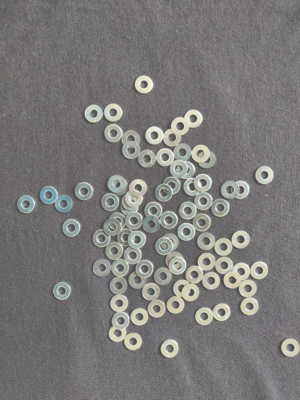circle: (192, 144, 211, 164), (214, 238, 234, 257), (173, 143, 192, 163), (124, 190, 145, 208), (53, 282, 72, 301), (62, 219, 81, 238), (75, 182, 94, 201), (135, 75, 154, 94), (184, 110, 203, 129), (202, 272, 221, 291), (122, 130, 141, 149), (154, 267, 173, 286), (197, 232, 216, 251), (193, 213, 212, 232), (92, 229, 111, 248), (101, 193, 120, 212), (160, 211, 179, 230), (170, 160, 189, 179), (129, 179, 148, 198), (145, 127, 165, 145), (177, 160, 195, 180), (156, 149, 176, 167), (17, 195, 35, 214), (40, 186, 58, 205), (104, 104, 123, 122), (256, 166, 274, 185), (231, 181, 249, 200), (282, 339, 300, 358), (239, 280, 258, 298), (195, 308, 214, 326), (160, 340, 179, 358), (171, 117, 189, 136), (109, 277, 128, 295), (93, 260, 112, 278), (232, 231, 251, 249), (186, 265, 204, 284), (129, 271, 147, 290), (123, 141, 141, 160), (104, 125, 123, 143), (105, 242, 124, 260), (117, 229, 136, 247), (161, 233, 179, 252), (198, 253, 216, 272), (194, 192, 213, 210), (194, 174, 213, 192), (184, 178, 202, 197), (110, 178, 129, 196), (108, 175, 126, 194), (55, 195, 73, 213), (85, 105, 103, 123), (222, 181, 240, 199), (241, 298, 259, 316), (251, 262, 269, 280), (124, 333, 142, 351), (164, 129, 182, 147), (199, 151, 217, 169), (109, 325, 127, 343), (148, 300, 166, 318), (131, 308, 149, 326), (143, 283, 161, 301), (233, 263, 251, 281), (216, 257, 234, 275), (182, 284, 200, 302), (136, 260, 154, 278), (111, 260, 129, 278), (124, 247, 142, 265), (129, 231, 147, 249), (169, 257, 187, 275), (178, 223, 196, 241), (179, 202, 197, 220), (212, 199, 230, 217), (109, 213, 127, 231), (125, 212, 143, 230), (122, 193, 140, 211), (110, 295, 129, 312), (142, 216, 161, 233), (139, 149, 156, 168), (112, 312, 130, 329), (167, 297, 185, 314), (224, 272, 242, 289), (173, 280, 191, 297), (156, 237, 173, 255), (104, 219, 122, 236), (145, 202, 163, 219), (163, 177, 181, 194), (121, 199, 139, 216), (214, 304, 231, 321), (166, 252, 183, 269), (156, 185, 173, 202)
